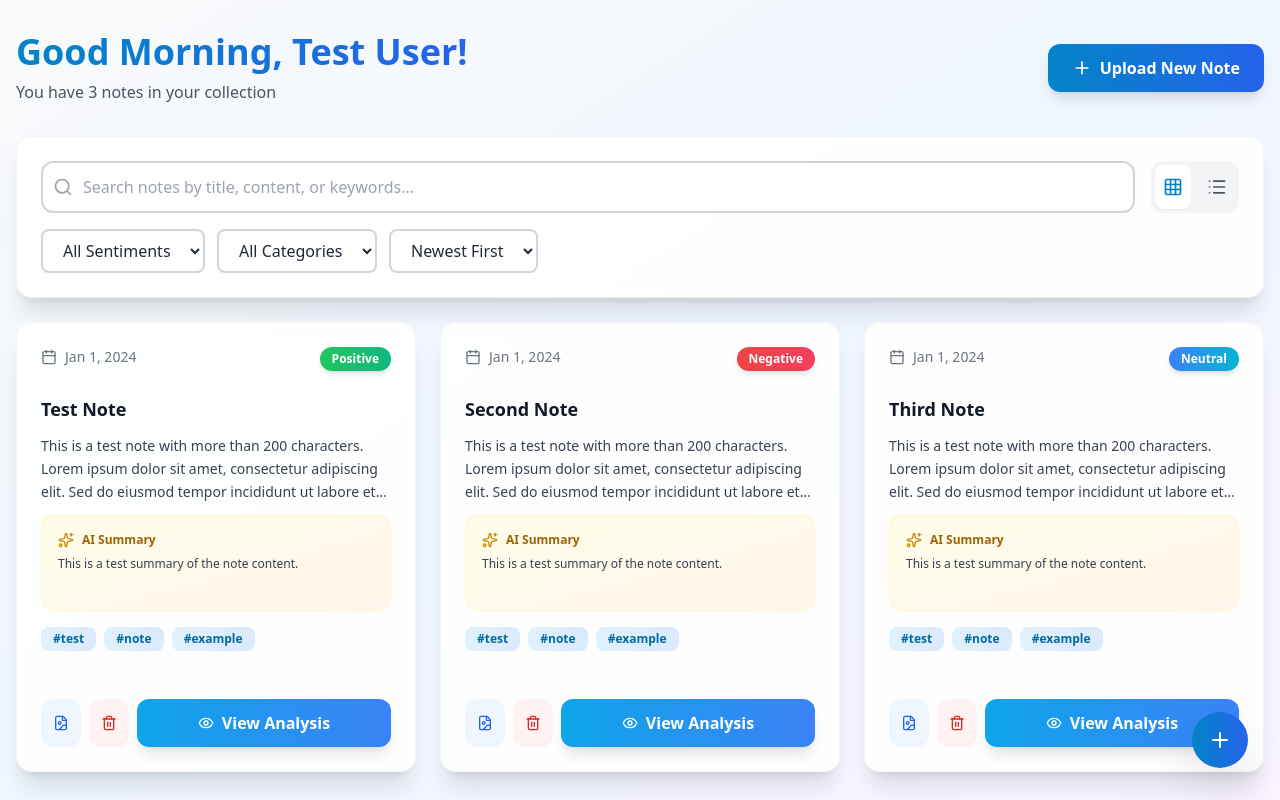
Test case: Dashboard Component › Delete Functionality › should close modal when cancel clicked
Expected: the heading "Test Note" is shown, [41,397,126,421]
Step 1. Click the 1st button titled "Delete note" → (109, 723), box [89,699,129,747]
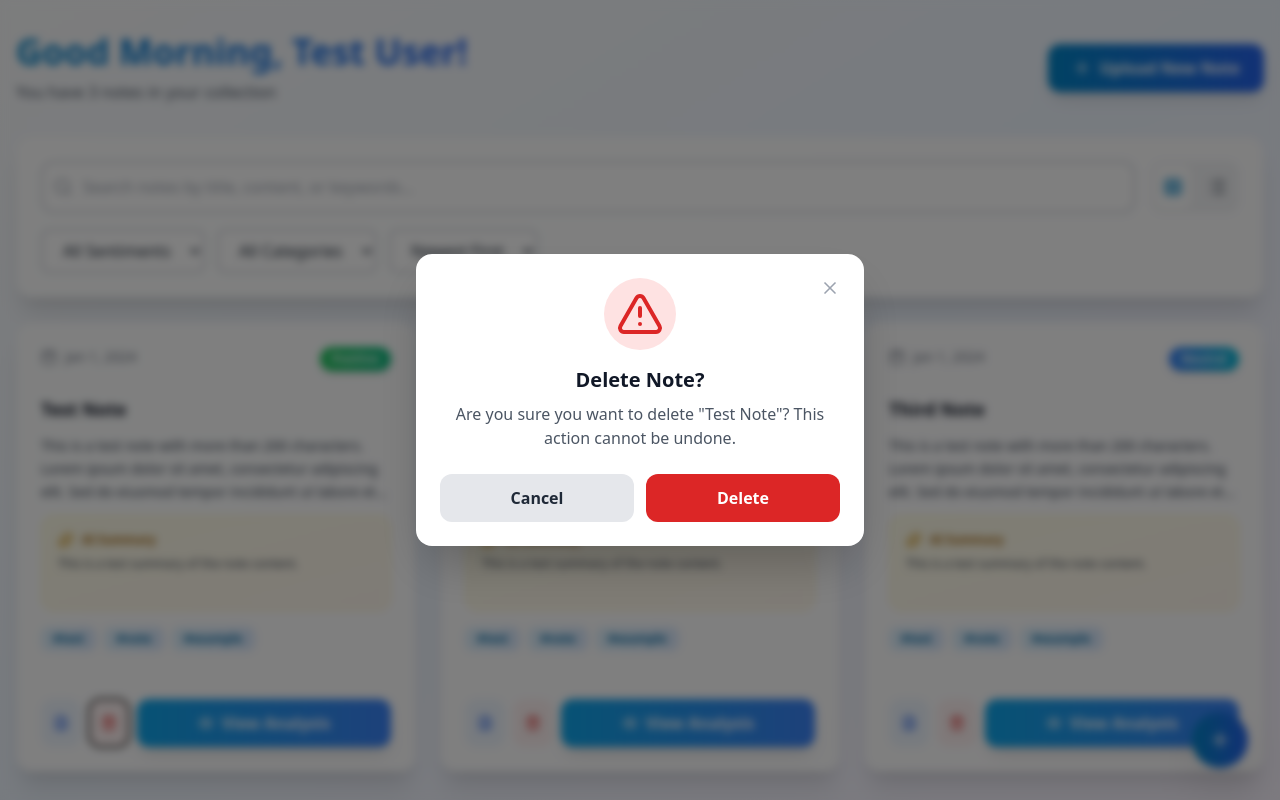
Result: the heading "Delete Note?" is shown at [576,366,704,393]
Step 2. Click the button "Cancel" → (537, 498), box [440,474,634,522]
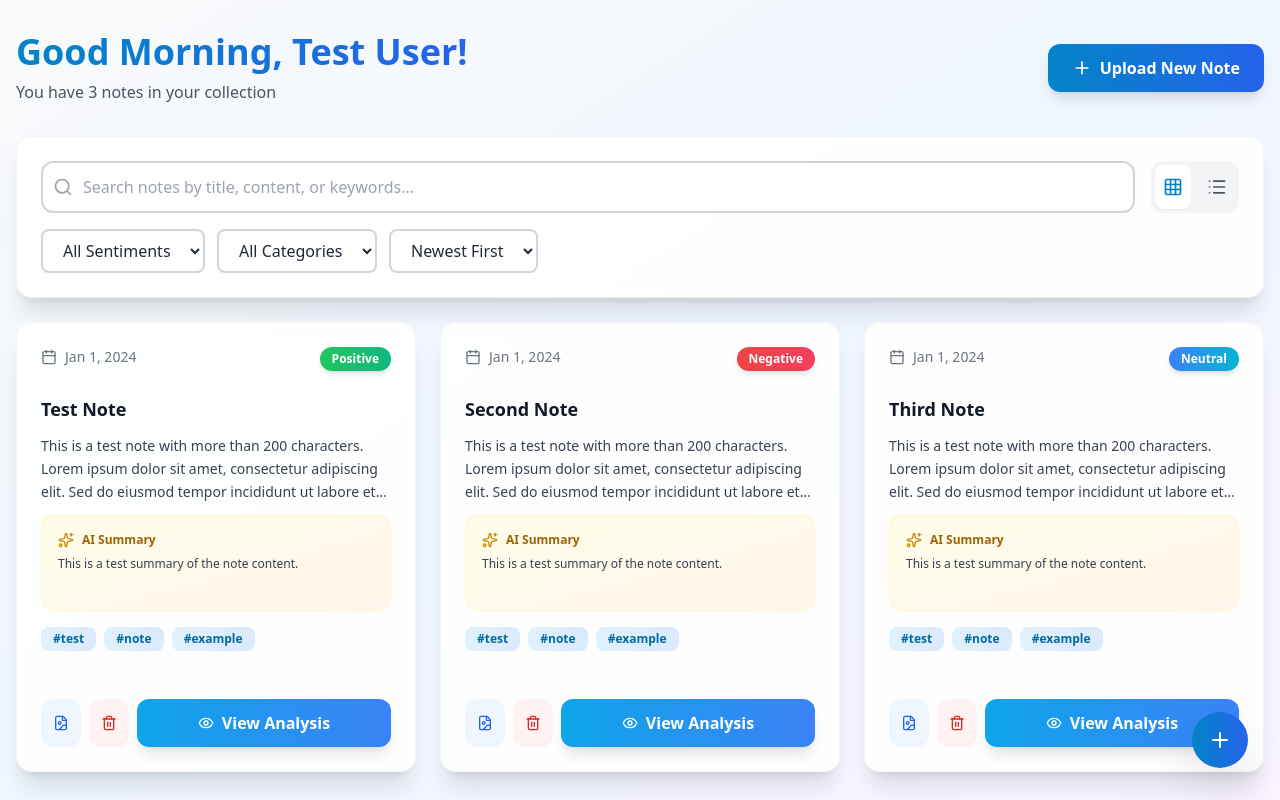
Result: the heading "Delete Note?" is gone
